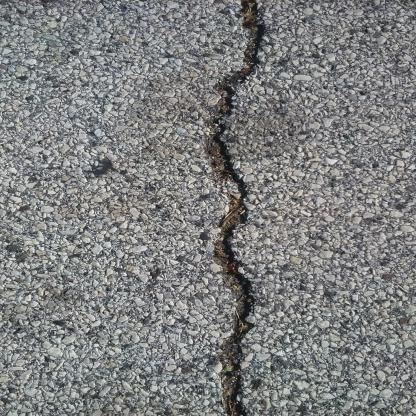Cracks: (188, 0, 279, 415)
